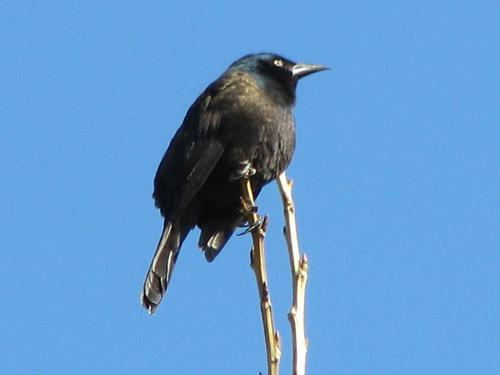009.Brewer_Blackbird: (142, 50, 325, 318)
